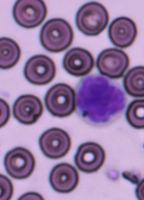M: (75, 74, 126, 127)
